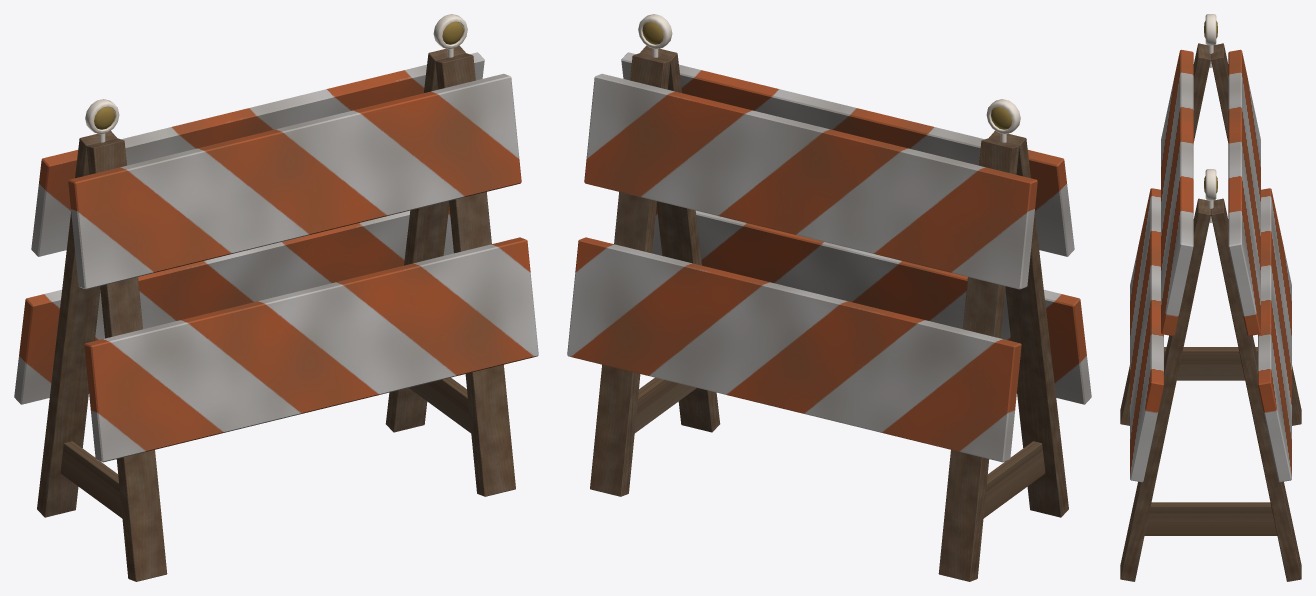
The model's file is Short barrier.fbx.
The picture shows the model from 3 angles, left to right: view 1: azimuth 30°, elevation 25°; view 2: azimuth 150°, elevation 25°; view 3: azimuth 270°, elevation 25°; orthographic projection. The views are drawn at different scales.
Visible parts, largest first — view 1: Short barrier; view 2: Short barrier; view 3: Short barrier.
Boxes of the visible parts, left/top/right/bottom form: Short barrier: left=14, top=14, right=538, bottom=581; Short barrier: left=567, top=14, right=1091, bottom=581; Short barrier: left=1120, top=14, right=1301, bottom=581.
Bounding box in the file's own units: 100 × 97.04 × 39.42.
